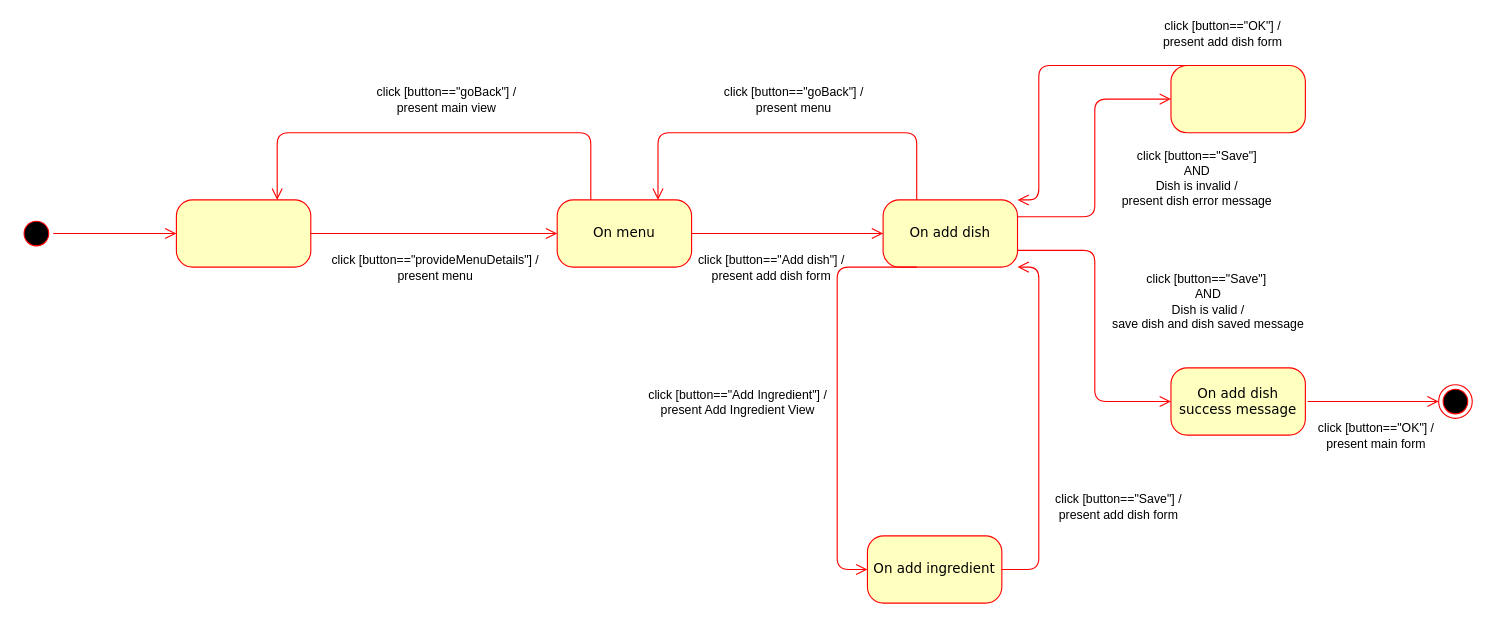
The diagram is 1492 pixels wide and 623 high, and some of its shapes have lost their labels. Each missing label, with the centre of its shape:
On add dish error message: point (1237, 98)
On main view: point (243, 233)
